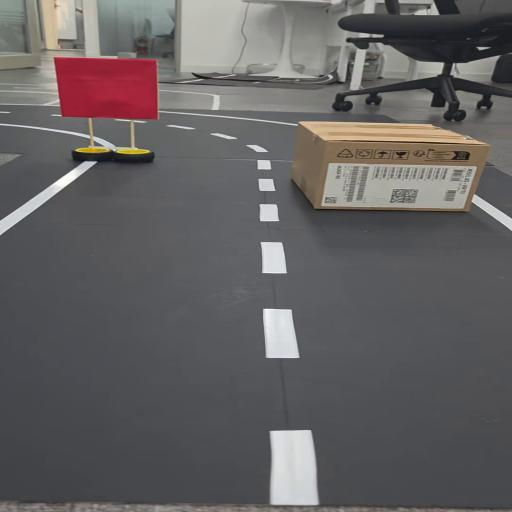Box: (281, 122, 496, 216)
Sign_A: (57, 61, 165, 166)
